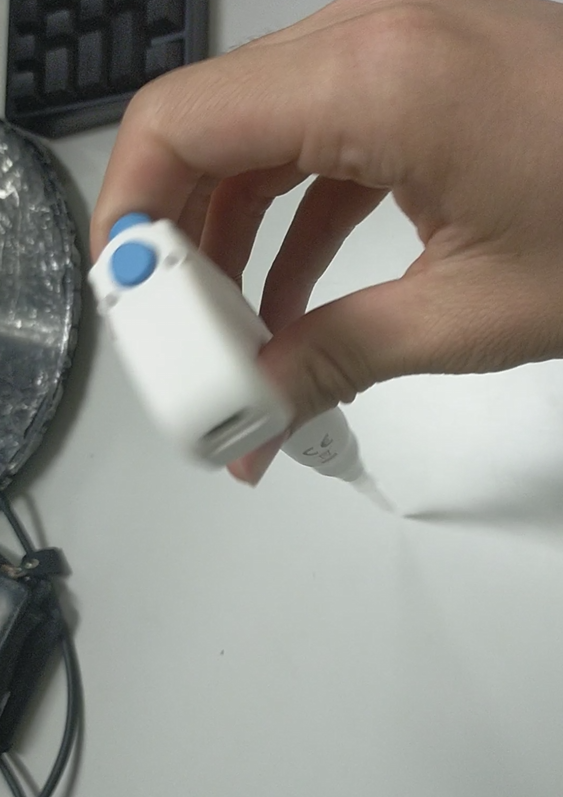pipette: (75, 208, 366, 494)
tip: (339, 459, 407, 518)
